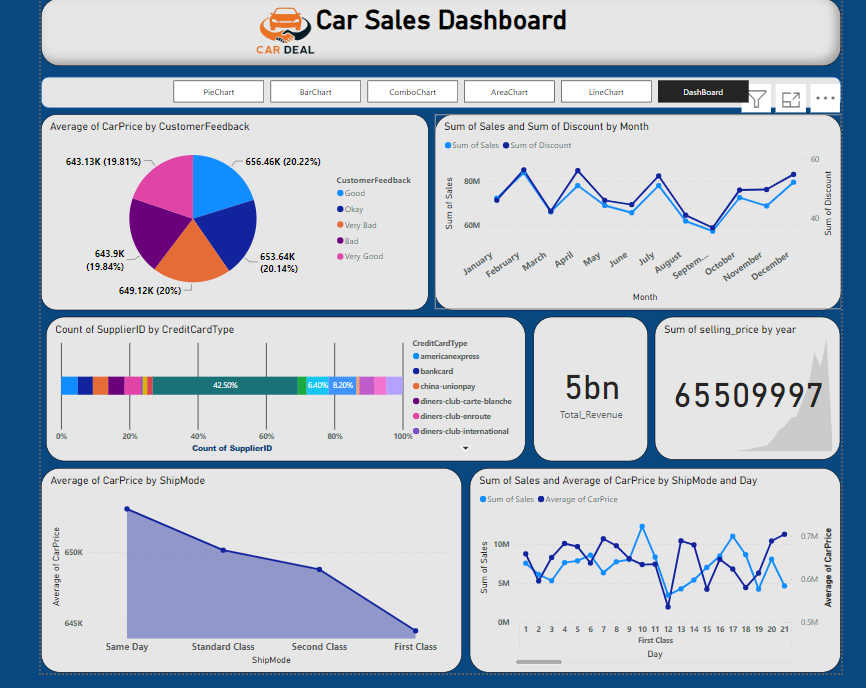

The dashboard page shown, as its layout file describes it:
{"tool":"powerbi","page":{"name":"DashBoard","canvas":[1280,1080],"ordinal":5},"visuals":[{"type":"shape","box":[0,125,1280,50],"z":0},{"type":"pieChart","fields":{"Category":["Car_SupplyChainManagementDataSet.CustomerFeedback"],"Y":["Avg(Car_SupplyChainManagementDataSet.CarPrice)"]},"box":[0,185,620,313.8],"z":1000},{"type":"hundredPercentStackedBarChart","fields":{"Y":["CountNonNull(Car_SupplyChainManagementDataSet.SupplierID)"],"Series":["Car_SupplyChainManagementDataSet.CreditCardType"]},"box":[8.8,510,767.5,231.2],"z":2000},{"type":"lineChart","fields":{"Category":["Car_SupplyChainManagementDataSet.OrderDate.Variation.Date Hierarchy.Month"],"Y2":["Sum(Car_SupplyChainManagementDataSet.Discount)"],"Y":["Sum(Car_SupplyChainManagementDataSet.Sales)"]},"box":[630,185,650,313.8],"z":3000},{"type":"areaChart","fields":{"Y":["Avg(Car_SupplyChainManagementDataSet.CarPrice)"],"Category":["Car_SupplyChainManagementDataSet.ShipMode"]},"box":[0,752.5,673.8,327.5],"z":4000},{"type":"lineChart","fields":{"Y2":["Avg(Car_SupplyChainManagementDataSet.CarPrice)"],"Category":["Car_SupplyChainManagementDataSet.ShipMode","Car_SupplyChainManagementDataSet.ShipDate.Variation.Date Hierarchy.Day"],"Y":["Sum(Car_SupplyChainManagementDataSet.Sales)"]},"box":[686.2,752.5,593.8,327.5],"z":5000},{"type":"textbox","title":"Car Sales Dashboard","box":[0,0,1280,108.8],"z":6000},{"type":"image","box":[61.2,0,658.8,97.5],"z":7000},{"type":"pageNavigator","box":[211.2,132.5,925,35],"z":8000},{"type":"card","fields":{"Values":["Car details v3.Total_Revenue"]},"box":[787.1,510,182.9,231.4],"z":8001},{"type":"kpi","fields":{"TrendLine":["Car details v3.year"],"Indicator":["Sum(Car details v3.selling_price)"]},"box":[982.9,510,297.1,228.6],"z":8002}]}

Visuals, with their boxes in screenshot pixels (x1, y1, x2, y2):
shape: bbox(36, 72, 840, 103)
pieChart - Car_SupplyChainManagementDataSet.CustomerFeedback x Avg(Car_SupplyChainManagementDataSet.CarPrice): bbox(36, 109, 425, 307)
hundredPercentStackedBarChart - CountNonNull(Car_SupplyChainManagementDataSet.SupplierID) x Car_SupplyChainManagementDataSet.CreditCardType: bbox(42, 314, 524, 459)
lineChart - Car_SupplyChainManagementDataSet.OrderDate.Variation.Date Hierarchy.Month x Sum(Car_SupplyChainManagementDataSet.Discount): bbox(432, 109, 840, 307)
areaChart - Avg(Car_SupplyChainManagementDataSet.CarPrice) x Car_SupplyChainManagementDataSet.ShipMode: bbox(36, 466, 459, 672)
lineChart - Avg(Car_SupplyChainManagementDataSet.CarPrice) x Car_SupplyChainManagementDataSet.ShipMode: bbox(467, 466, 840, 672)
"Car Sales Dashboard" textbox: bbox(36, 0, 840, 62)
image: bbox(75, 0, 488, 54)
pageNavigator: bbox(169, 76, 750, 98)
card - Car details v3.Total_Revenue: bbox(530, 314, 645, 459)
kpi - Car details v3.year x Sum(Car details v3.selling_price): bbox(653, 314, 840, 457)
